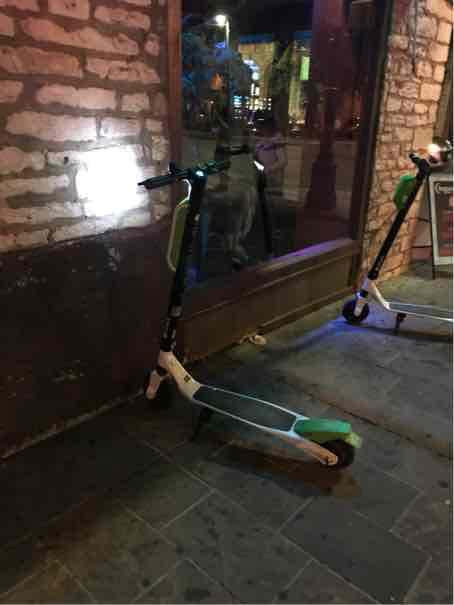scooter: (132, 161, 361, 482)
